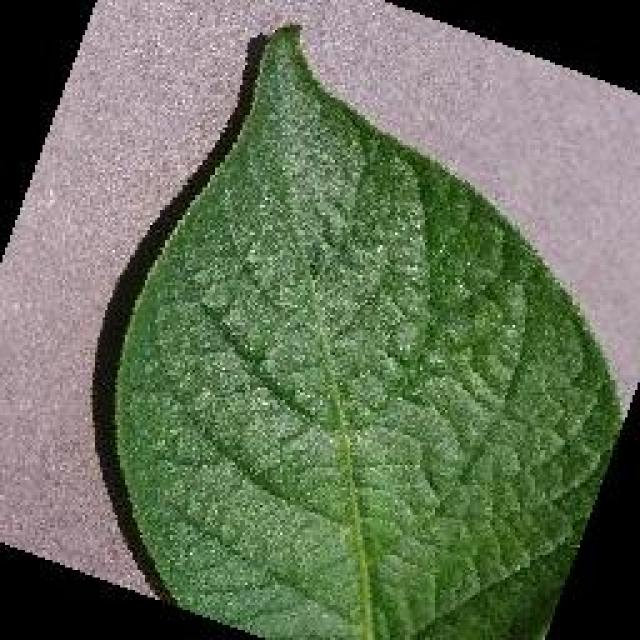Potato___healthy: (115, 20, 623, 638)
